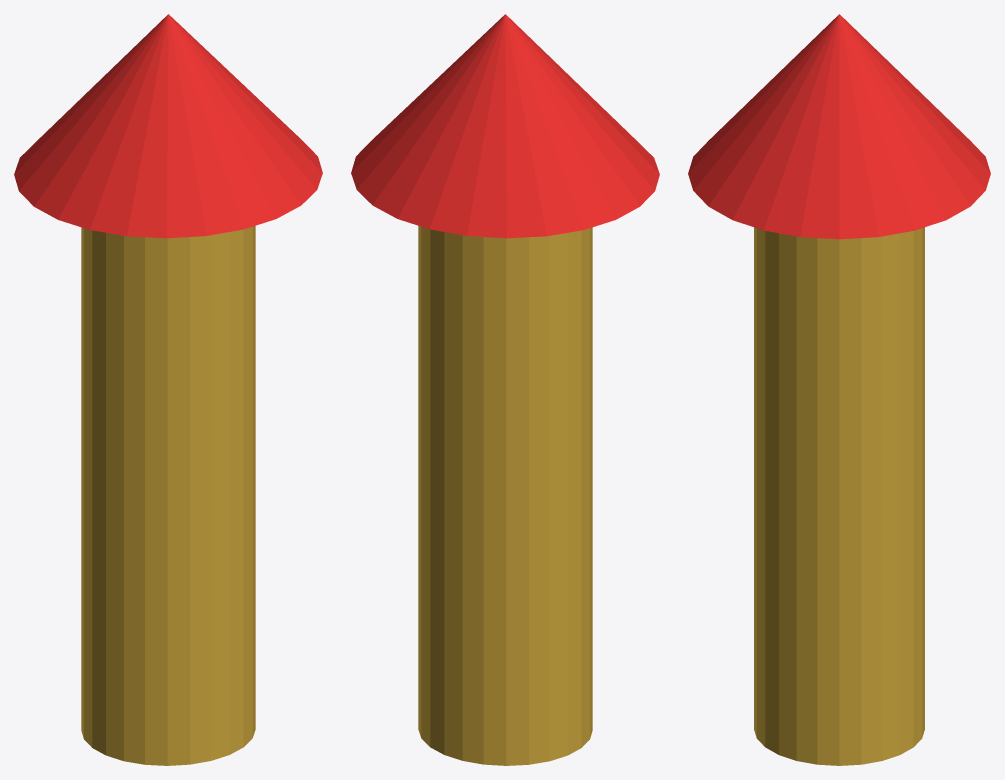
File: torre.fbx
3 renders of one model, left to right at view 1: azimuth 30°, elevation 25°; view 2: azimuth 150°, elevation 25°; view 3: azimuth 270°, elevation 25°, orthographic.
Visible parts, largest first — view 1: Cylinder; view 2: Cylinder; view 3: Cylinder.
Boxes of the visible parts, x1=… form: Cylinder: x1=14, y1=14, x2=322, y2=765; Cylinder: x1=351, y1=14, x2=659, y2=765; Cylinder: x1=688, y1=14, x2=990, y2=765.
Bounding box in the file's own units: 199 × 506 × 194.
